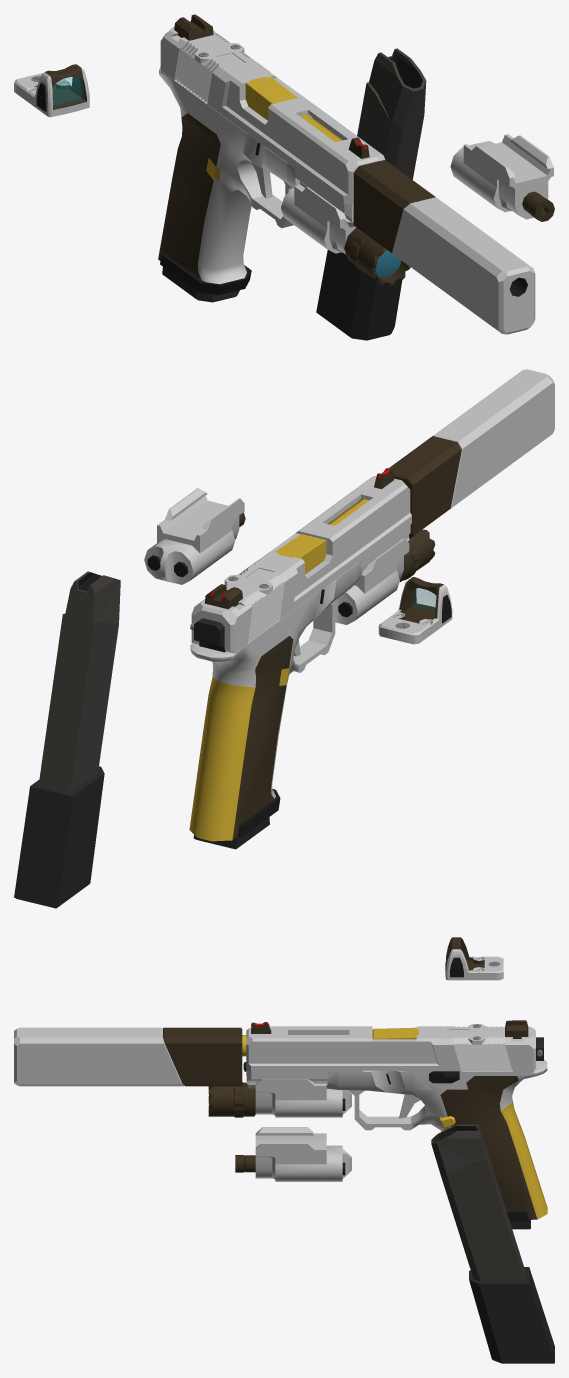
The model's file is DemoFacility_Pistol.FBX.
3 renders of one model, top to bottom at view 1: azimuth 30°, elevation 25°; view 2: azimuth 150°, elevation 25°; view 3: azimuth 270°, elevation 25°, orthographic. The views are drawn at different scales.
Parts seen in each view (by area): view 1: DFPstl_Pistol, DFPstl_Silencer, DFPstl_Slide, DFPstl_Magazine_Extended, DFPstl_Attachment_Laser, DFPstl_Attachment_Flashlight, DFPstl_Optics_RedDotRMR, DFPstl_Optics_BlankingPlate, DFPstl_Barrel, DFPstl_Magazine_Standard; view 2: DFPstl_Magazine_Extended, DFPstl_Pistol, DFPstl_Silencer, DFPstl_Slide, DFPstl_Attachment_Laser, DFPstl_Attachment_Flashlight, DFPstl_Optics_RedDotRMR, DFPstl_Optics_BlankingPlate, DFPstl_Barrel, DFPstl_FireSelector; view 3: DFPstl_Magazine_Extended, DFPstl_Silencer, DFPstl_Pistol, DFPstl_Slide, DFPstl_Attachment_Laser, DFPstl_Attachment_Flashlight, DFPstl_Optics_RedDotRMR, DFPstl_Optics_BlankingPlate, DFPstl_Barrel.
Part boxes in pixels (bbox=[...]): DFPstl_Pistol: bbox=[158, 66, 354, 295]; DFPstl_Silencer: bbox=[353, 160, 535, 334]; DFPstl_Slide: bbox=[160, 14, 385, 204]; DFPstl_Magazine_Extended: bbox=[316, 48, 426, 340]; DFPstl_Attachment_Laser: bbox=[450, 134, 554, 221]; DFPstl_Attachment_Flashlight: bbox=[281, 185, 410, 285]; DFPstl_Optics_RedDotRMR: bbox=[14, 64, 89, 117]; DFPstl_Optics_BlankingPlate: bbox=[182, 35, 261, 76]; DFPstl_Barrel: bbox=[245, 77, 342, 141]; DFPstl_Magazine_Standard: bbox=[162, 267, 239, 302]; DFPstl_Magazine_Extended: bbox=[14, 571, 120, 908]; DFPstl_Pistol: bbox=[189, 524, 410, 841]; DFPstl_Silencer: bbox=[381, 369, 554, 538]; DFPstl_Slide: bbox=[191, 468, 411, 653]; DFPstl_Attachment_Laser: bbox=[144, 488, 245, 584]; DFPstl_Attachment_Flashlight: bbox=[335, 529, 435, 624]; DFPstl_Optics_RedDotRMR: bbox=[378, 577, 452, 644]; DFPstl_Optics_BlankingPlate: bbox=[224, 564, 289, 604]; DFPstl_Barrel: bbox=[275, 498, 369, 574]; DFPstl_FireSelector: bbox=[190, 618, 224, 646]; DFPstl_Magazine_Extended: bbox=[431, 1124, 554, 1363]; DFPstl_Silencer: bbox=[14, 1027, 242, 1086]; DFPstl_Pistol: bbox=[246, 1059, 547, 1221]; DFPstl_Slide: bbox=[246, 1020, 535, 1075]; DFPstl_Attachment_Laser: bbox=[235, 1127, 351, 1181]; DFPstl_Attachment_Flashlight: bbox=[208, 1079, 351, 1117]; DFPstl_Optics_RedDotRMR: bbox=[445, 937, 503, 980]; DFPstl_Optics_BlankingPlate: bbox=[444, 1024, 504, 1044]; DFPstl_Barrel: bbox=[242, 1027, 418, 1056].
Bounding box in the file's own units: 22.79 × 20.74 × 35.7.
